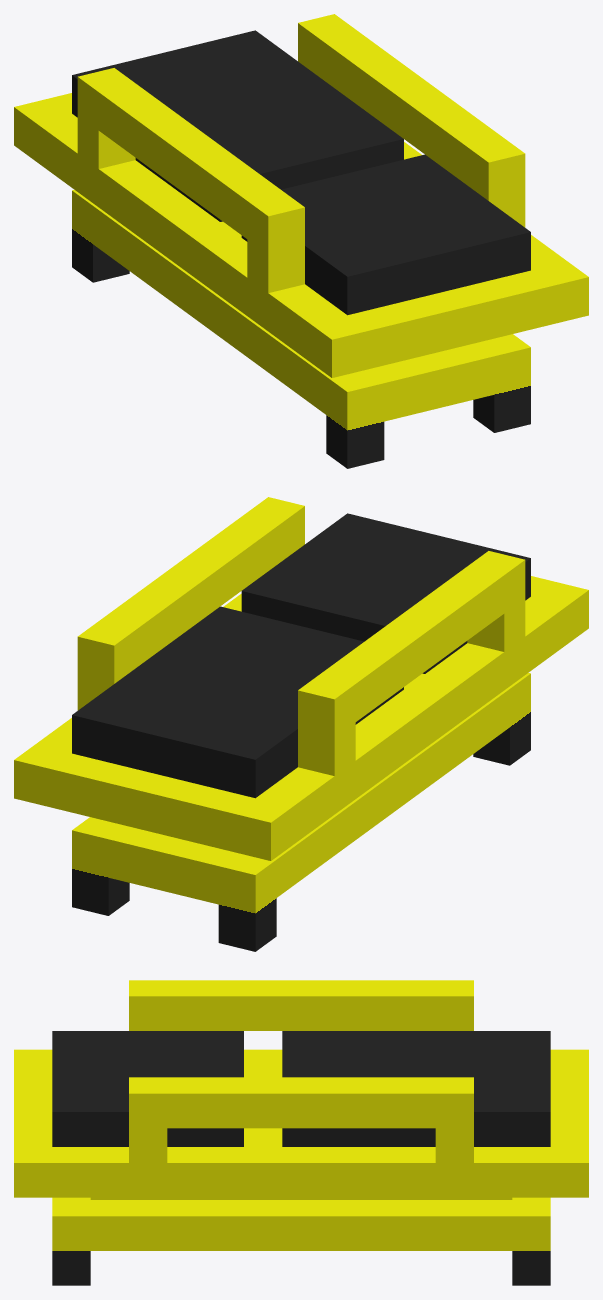
Rendered from obj_stretcher.fbx.
The picture shows the model from 3 angles, top to bottom: view 1: azimuth 30°, elevation 25°; view 2: azimuth 150°, elevation 25°; view 3: azimuth 270°, elevation 25°; orthographic projection. The views are drawn at different scales.
Visible parts, largest first — view 1: obj_stretcher; view 2: obj_stretcher; view 3: obj_stretcher.
Part boxes in pixels (x1,y1,x2,y2): obj_stretcher: [14, 14, 588, 468]; obj_stretcher: [14, 497, 588, 951]; obj_stretcher: [14, 980, 588, 1285].
Bounding box in the file's own units: 0.7 × 1.5 × 0.6.
Materials: 1 (1 with a texture image).
